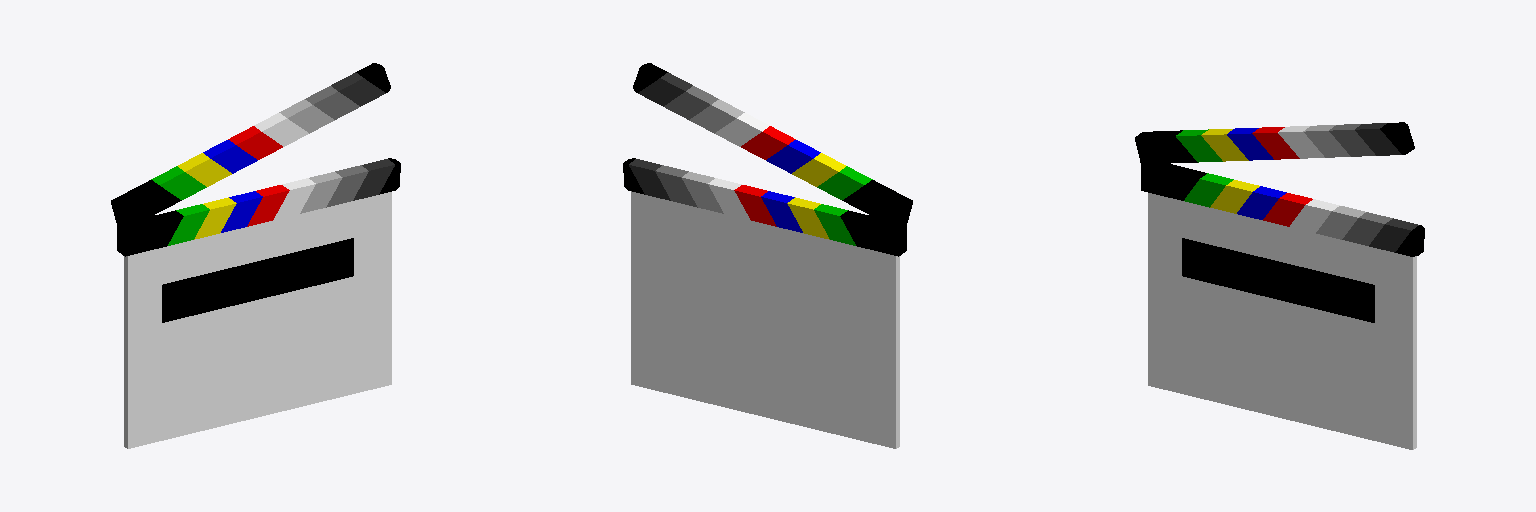
3 views of the same model, side by side, from view 1: azimuth 30°, elevation 25°; view 2: azimuth 150°, elevation 25°; view 3: azimuth 330°, elevation 25° (orthographic).
Parts seen in each view (by area): view 1: SlateMesh; view 2: SlateMesh; view 3: SlateMesh.
Part boxes in pixels (bbox=[...]): SlateMesh: bbox=[111, 63, 400, 448]; SlateMesh: bbox=[623, 63, 912, 448]; SlateMesh: bbox=[1135, 122, 1424, 449].
Size of the model in its own units: 0.6742 by 0.7237 by 0.0329.
Materials: 1 (1 with a texture image).